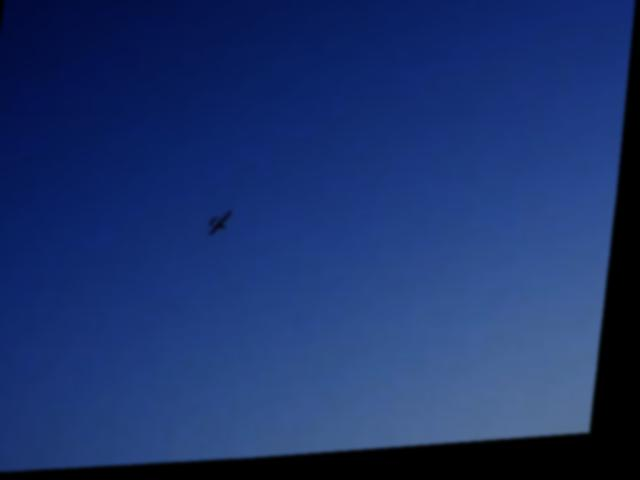uav: (211, 211, 239, 241)
